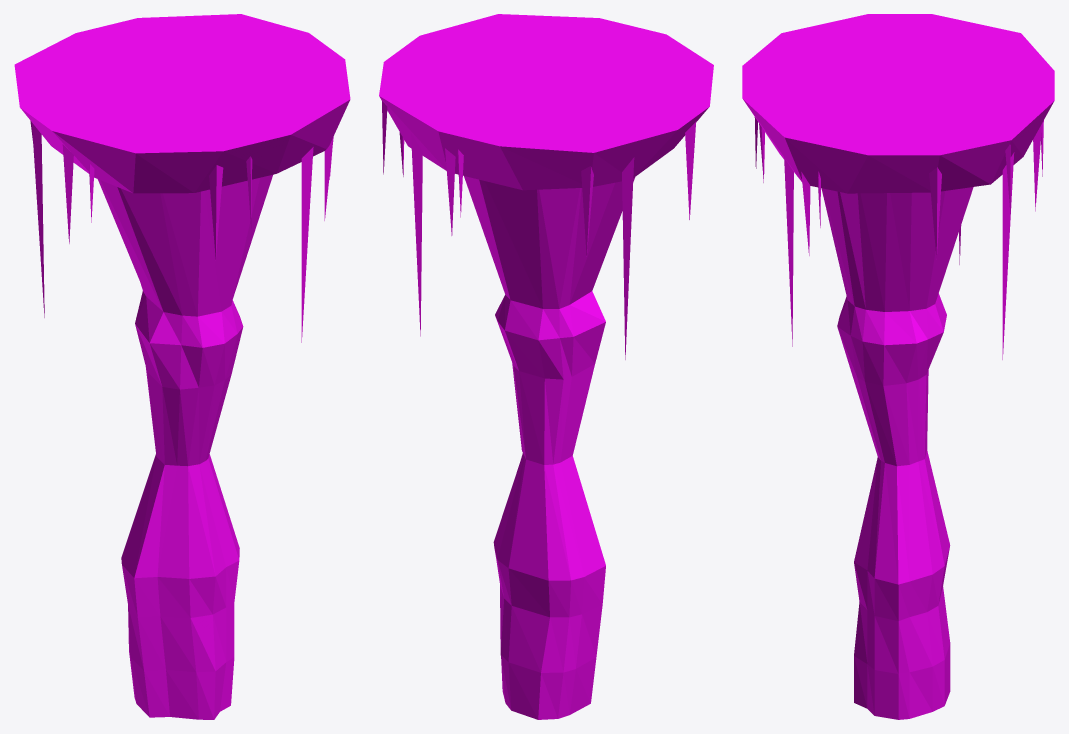
The model's file is cave platform verysmall.obj.
3 renders of one model, left to right at view 1: azimuth 30°, elevation 25°; view 2: azimuth 150°, elevation 25°; view 3: azimuth 270°, elevation 25°, orthographic.
Visible parts, largest first — view 1: cave platform verysmall_back; view 2: cave platform verysmall_back; view 3: cave platform verysmall_back.
Part boxes in pixels (x1=…): cave platform verysmall_back: x1=14, y1=14, x2=350, y2=719; cave platform verysmall_back: x1=379, y1=14, x2=713, y2=719; cave platform verysmall_back: x1=742, y1=14, x2=1054, y2=719.
Bounding box in the file's own units: 4.2 × 8.51 × 3.92.
